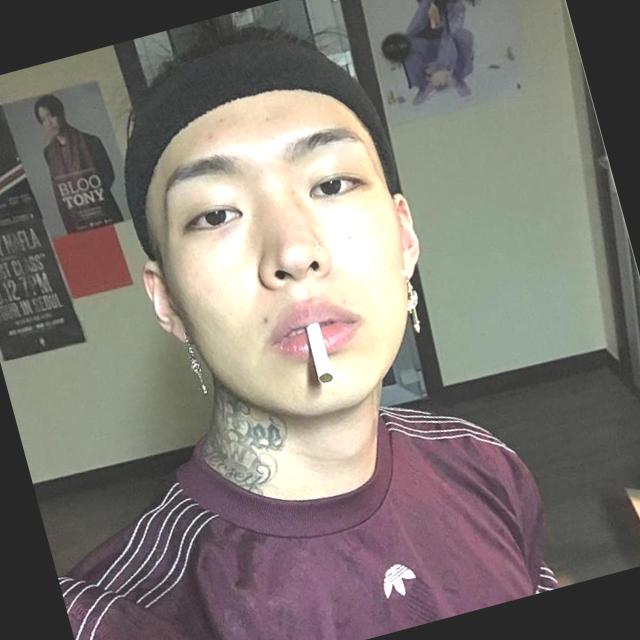cigarette: (275, 308, 359, 419)
